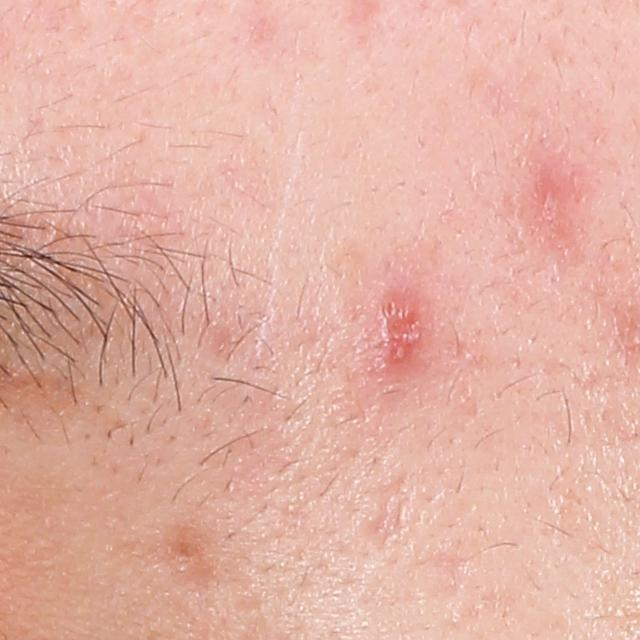atrophic_scar: (363, 472, 411, 549), (429, 547, 471, 609)
papule: (374, 288, 425, 375)
